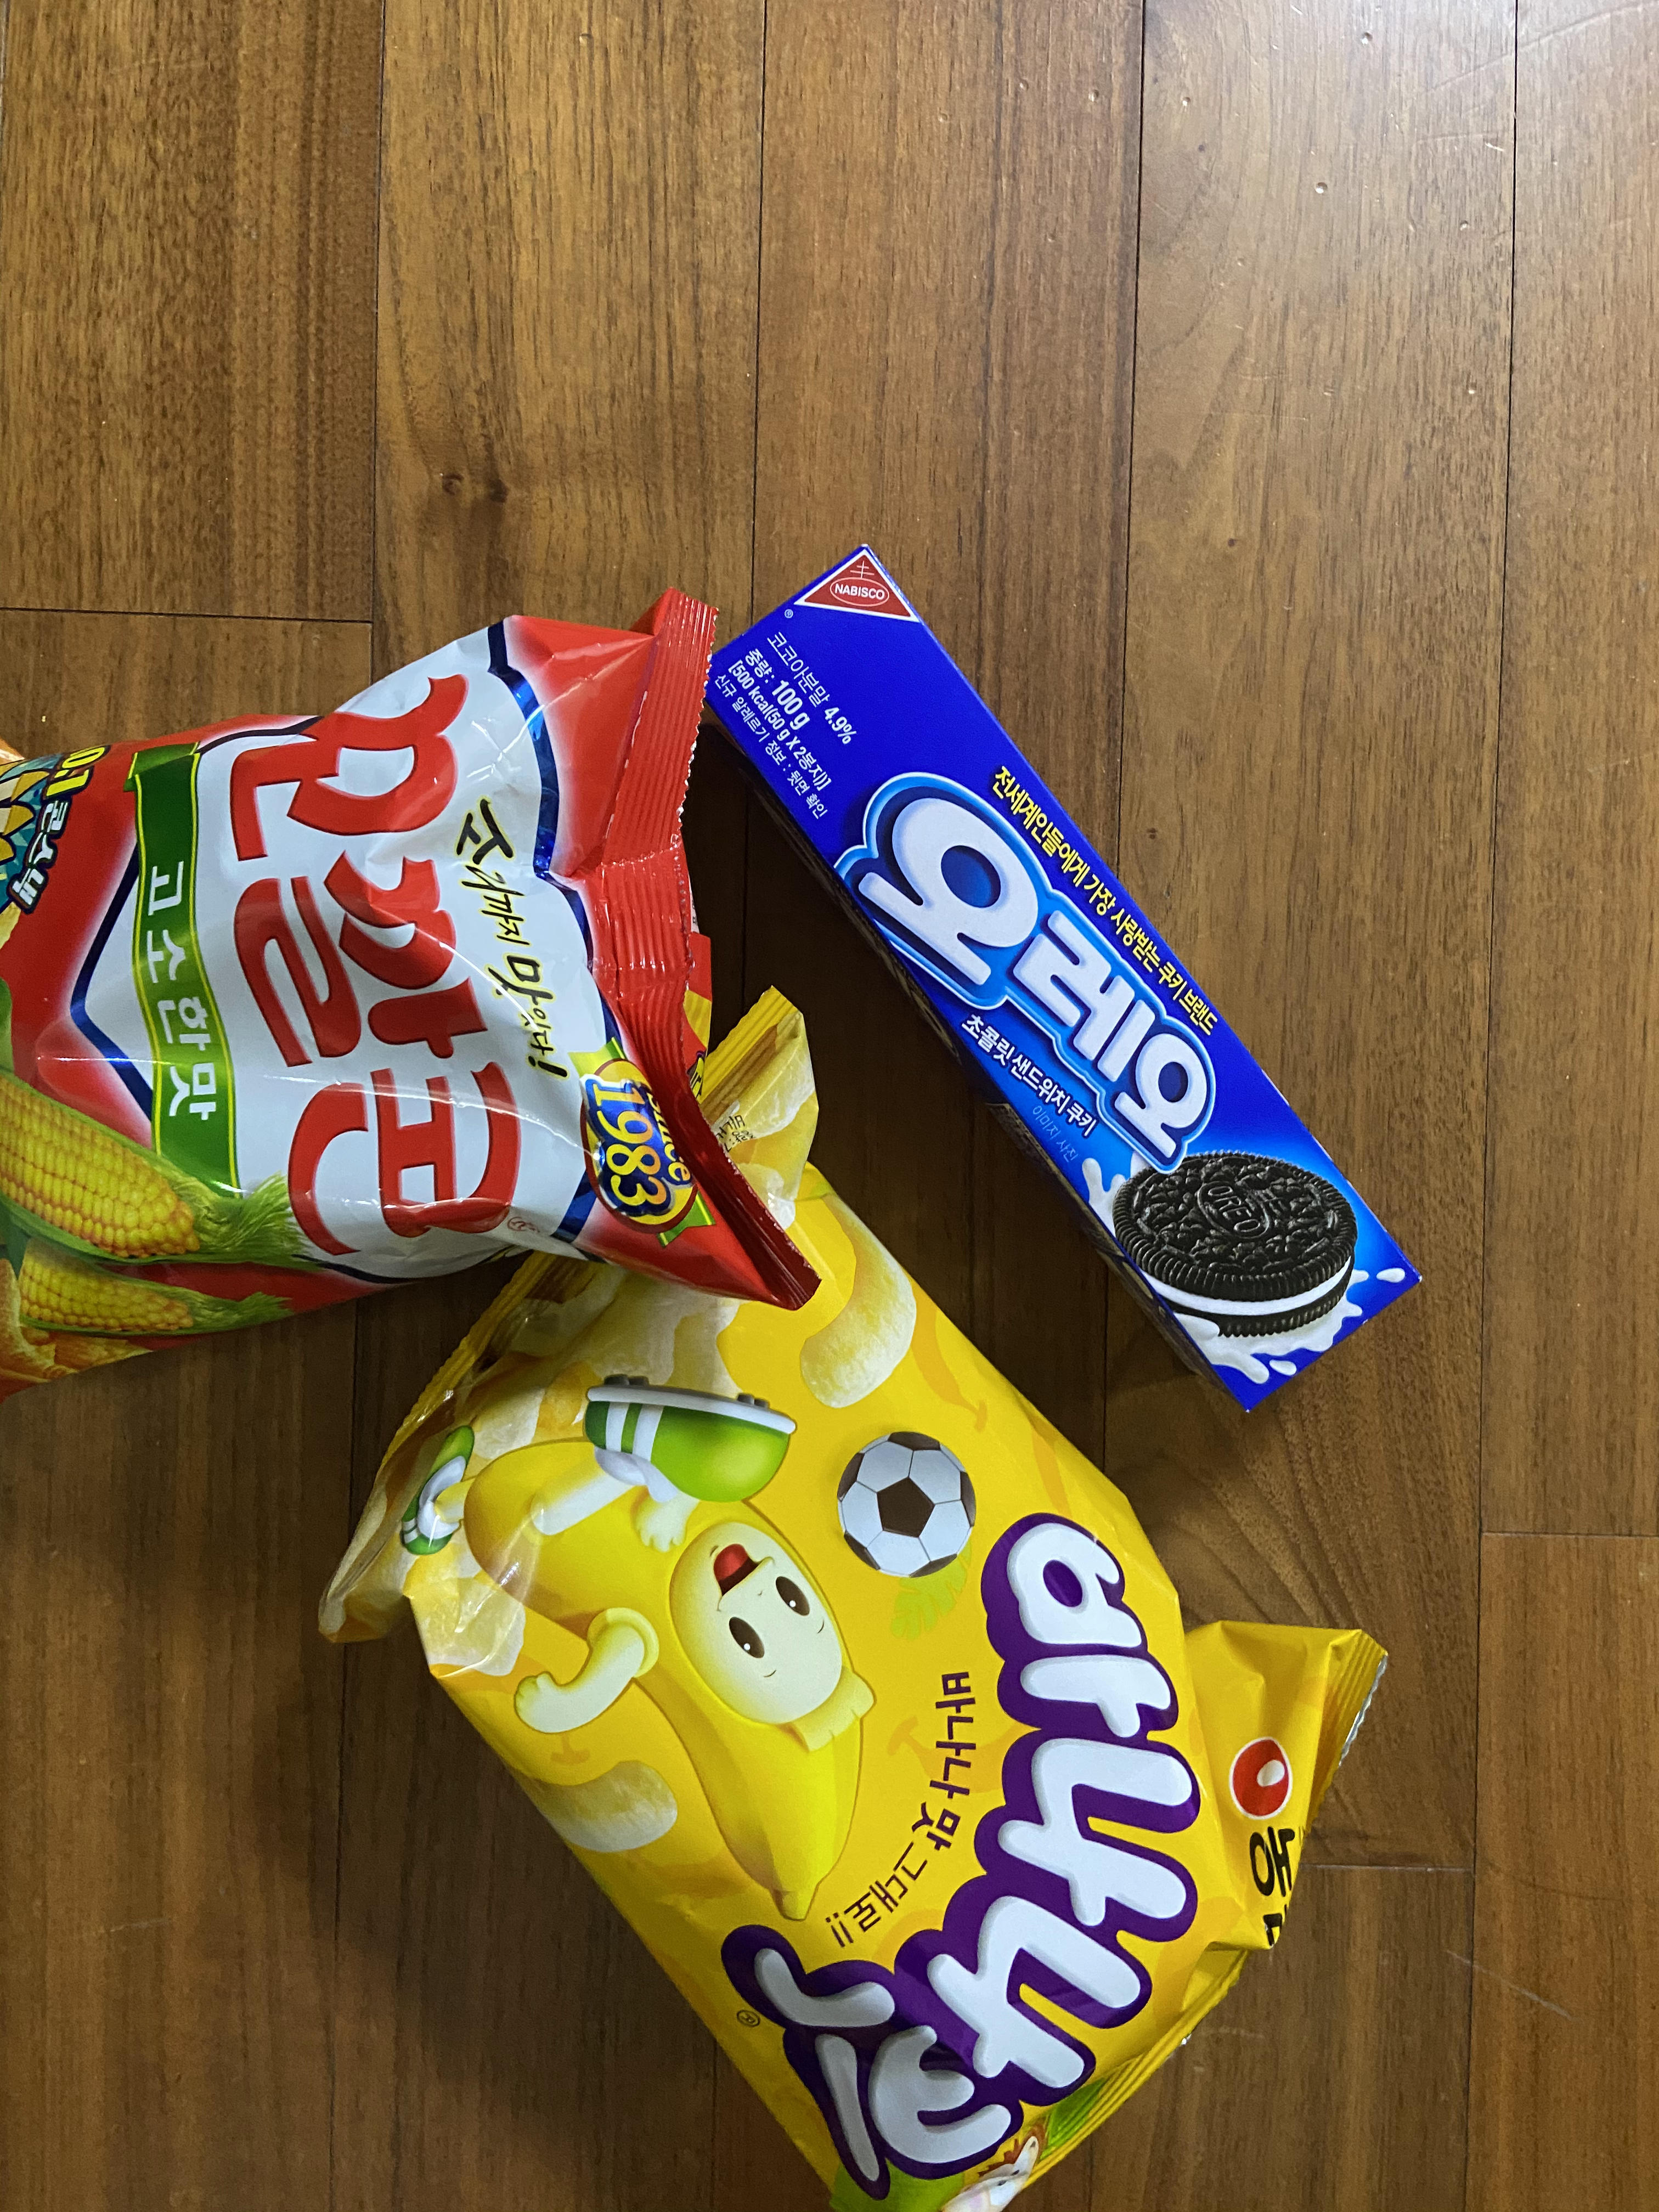banana: (305, 967, 1399, 2209)
ggoggalcon: (0, 571, 833, 1406)
oreo: (681, 533, 1459, 1440)
